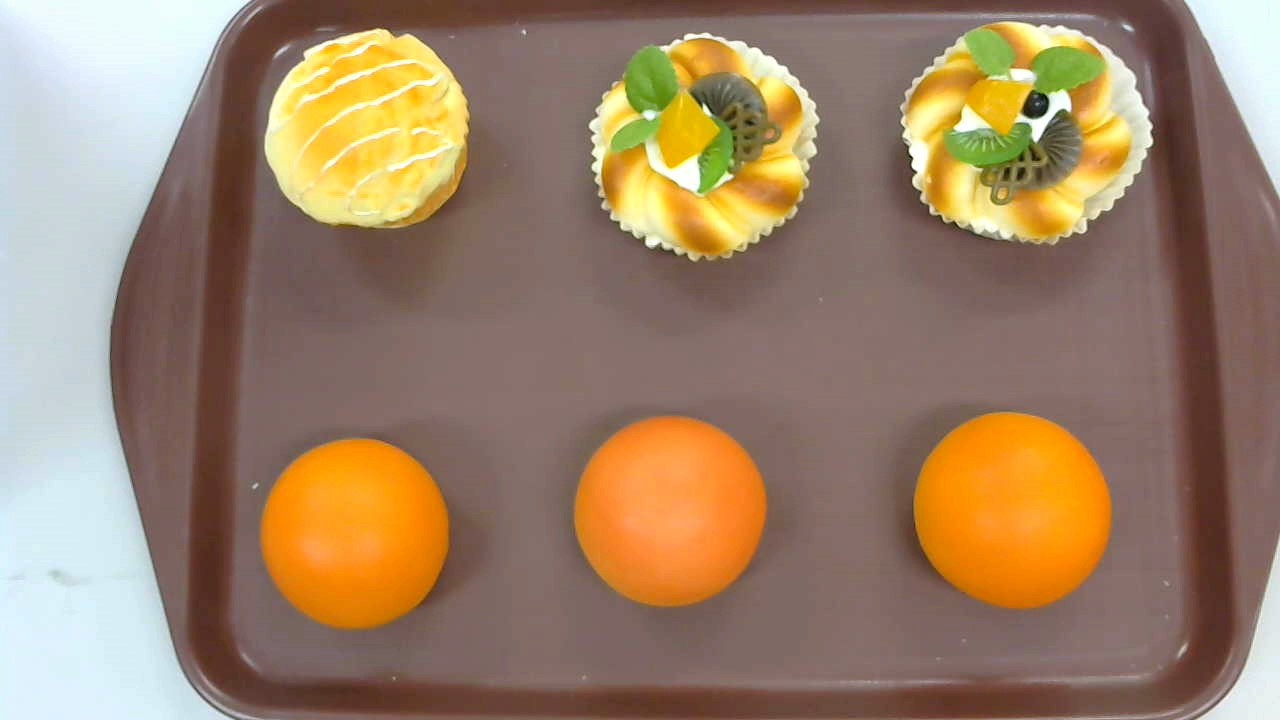bun: (911, 412, 1112, 607), (573, 415, 768, 607), (260, 436, 450, 629)
cupcake: (263, 28, 469, 230)
fruit tart: (899, 22, 1154, 247), (588, 33, 819, 262)
